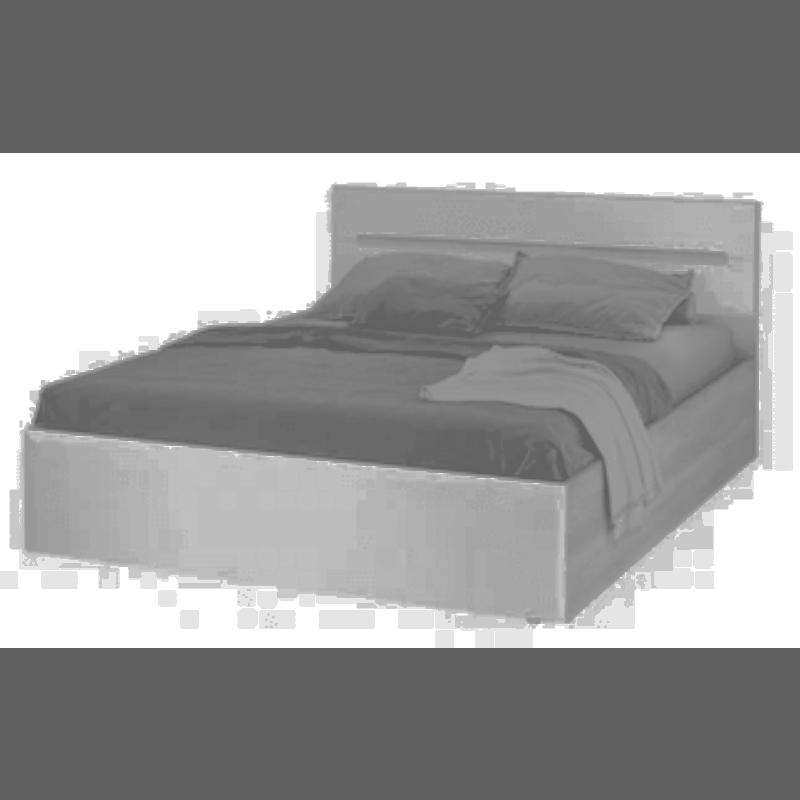pillow: (503, 251, 693, 340), (344, 270, 507, 346)
